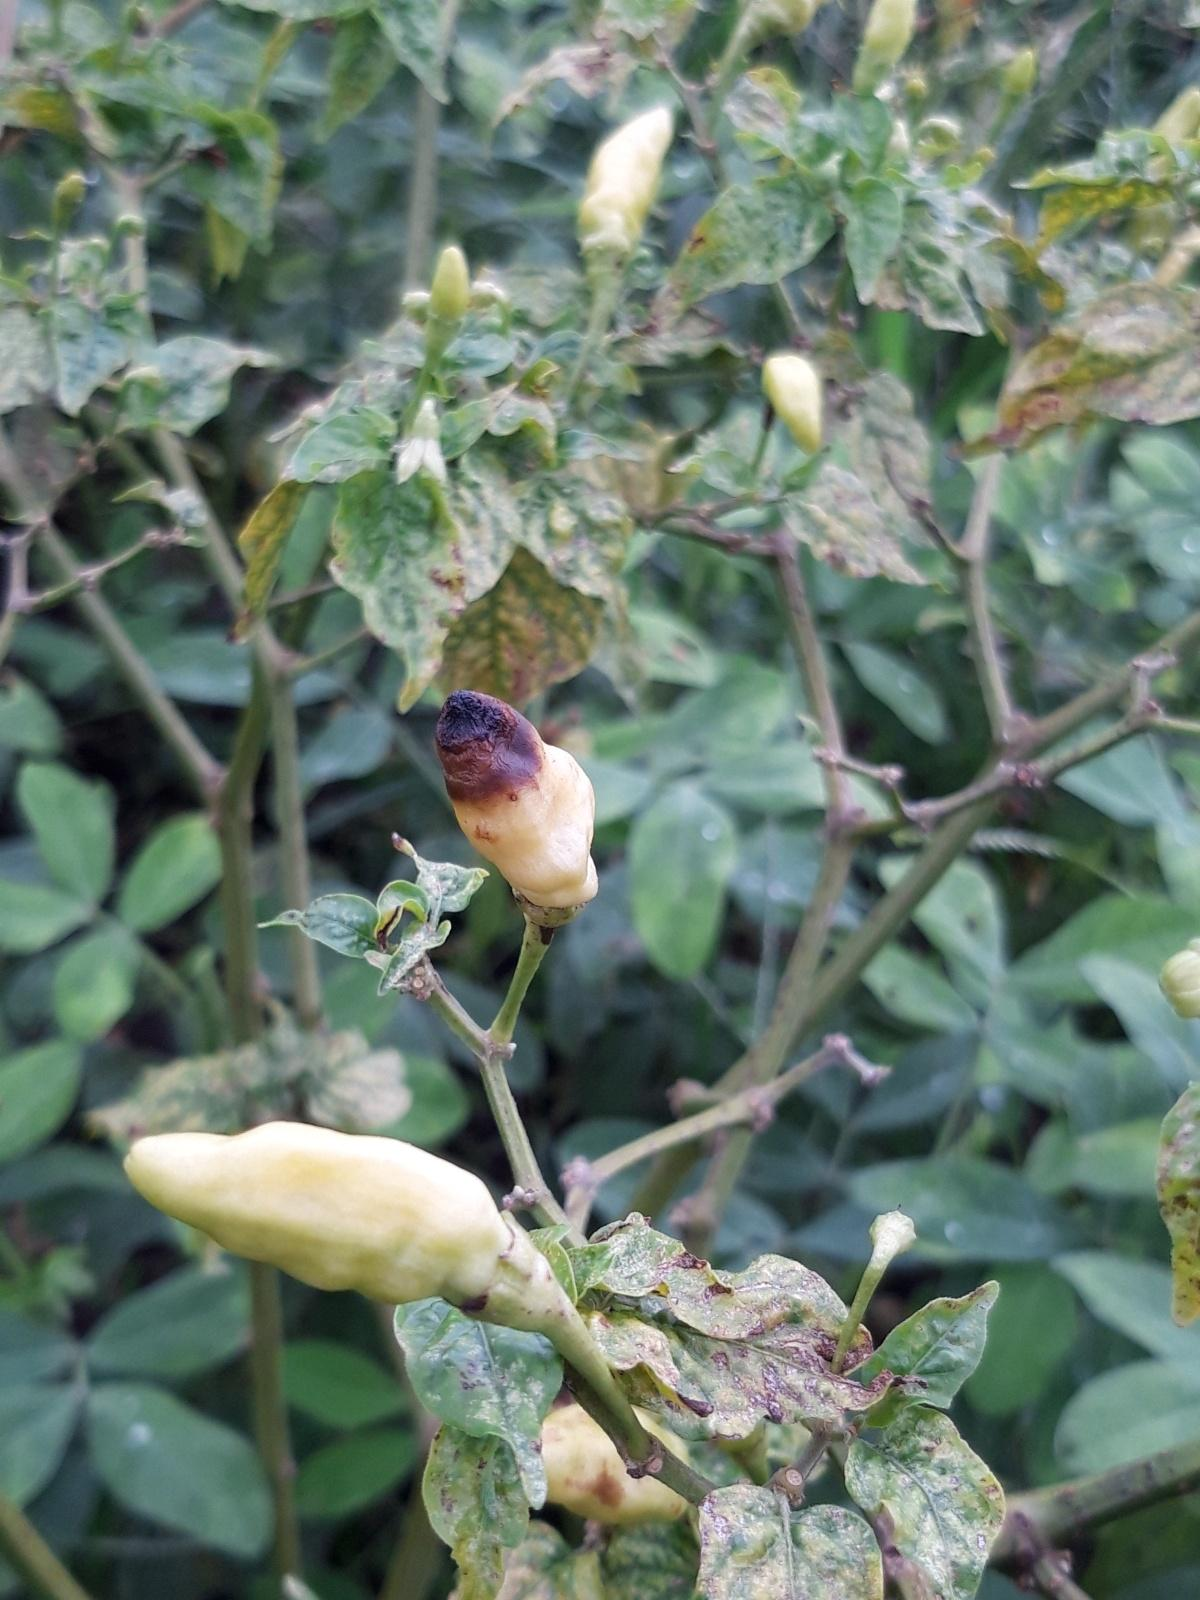antraknosa: (434, 688, 603, 929)
cabai_normal: (124, 1117, 560, 1332), (579, 106, 674, 275), (761, 355, 822, 455), (425, 244, 468, 349)
